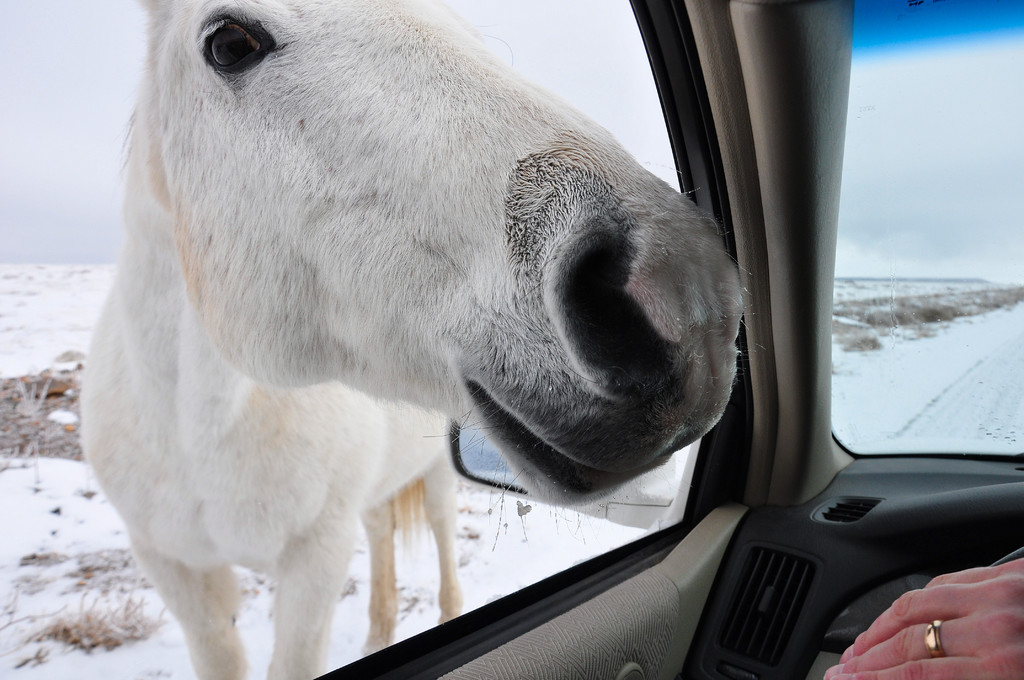Animal: (77, 0, 770, 678)
